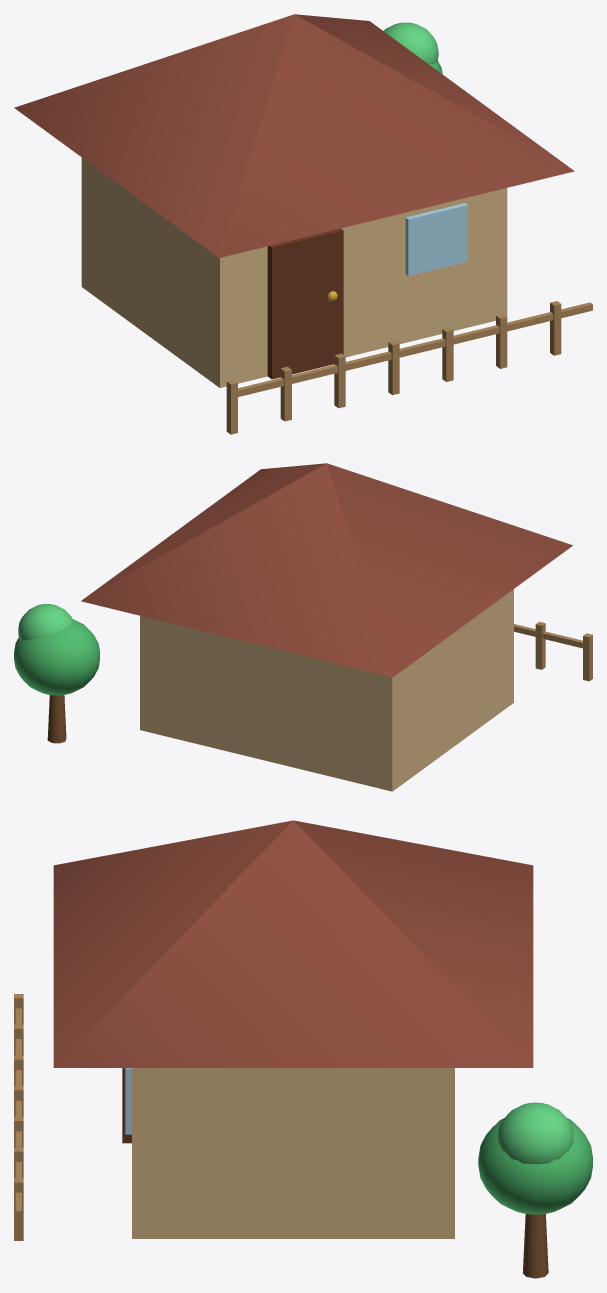
Rendered from res_hut.glb.
The picture shows the model from 3 angles, top to bottom: view 1: azimuth 30°, elevation 25°; view 2: azimuth 150°, elevation 25°; view 3: azimuth 270°, elevation 25°; orthographic projection. The views are drawn at different scales.
Size of the model in its own units: 3.59 by 2.3 by 3.58.
